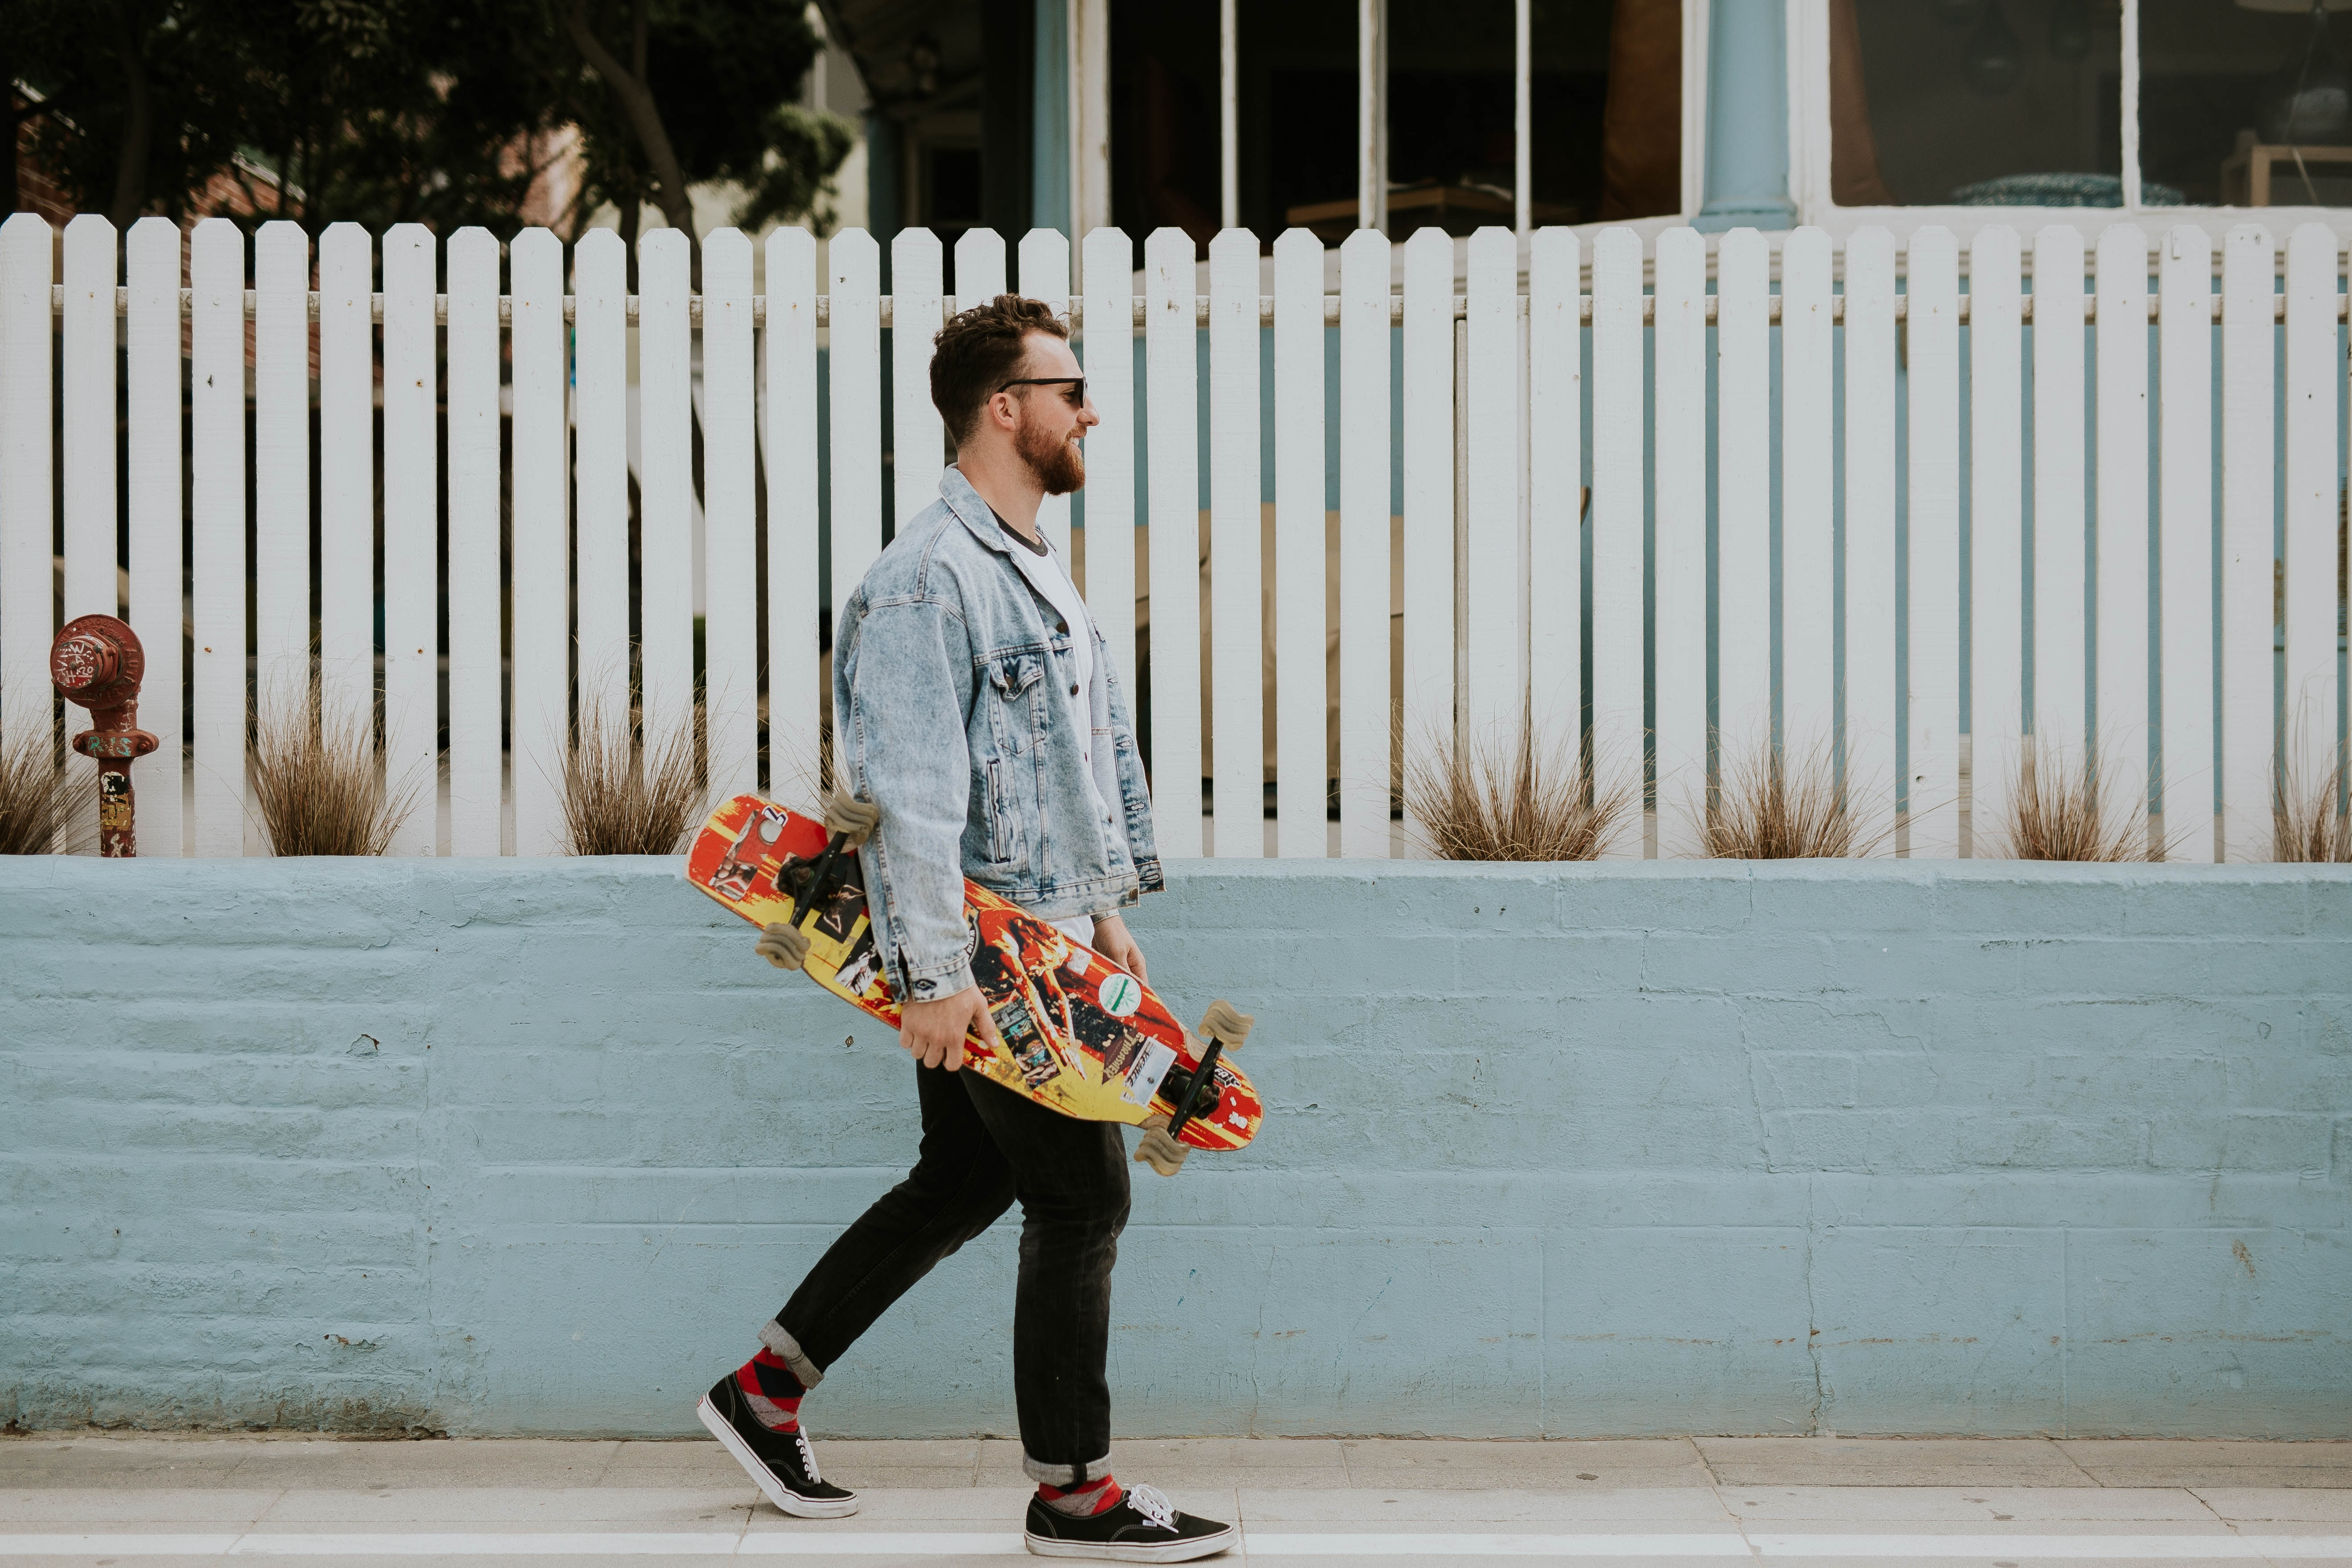person: (672, 287, 1247, 1568)
